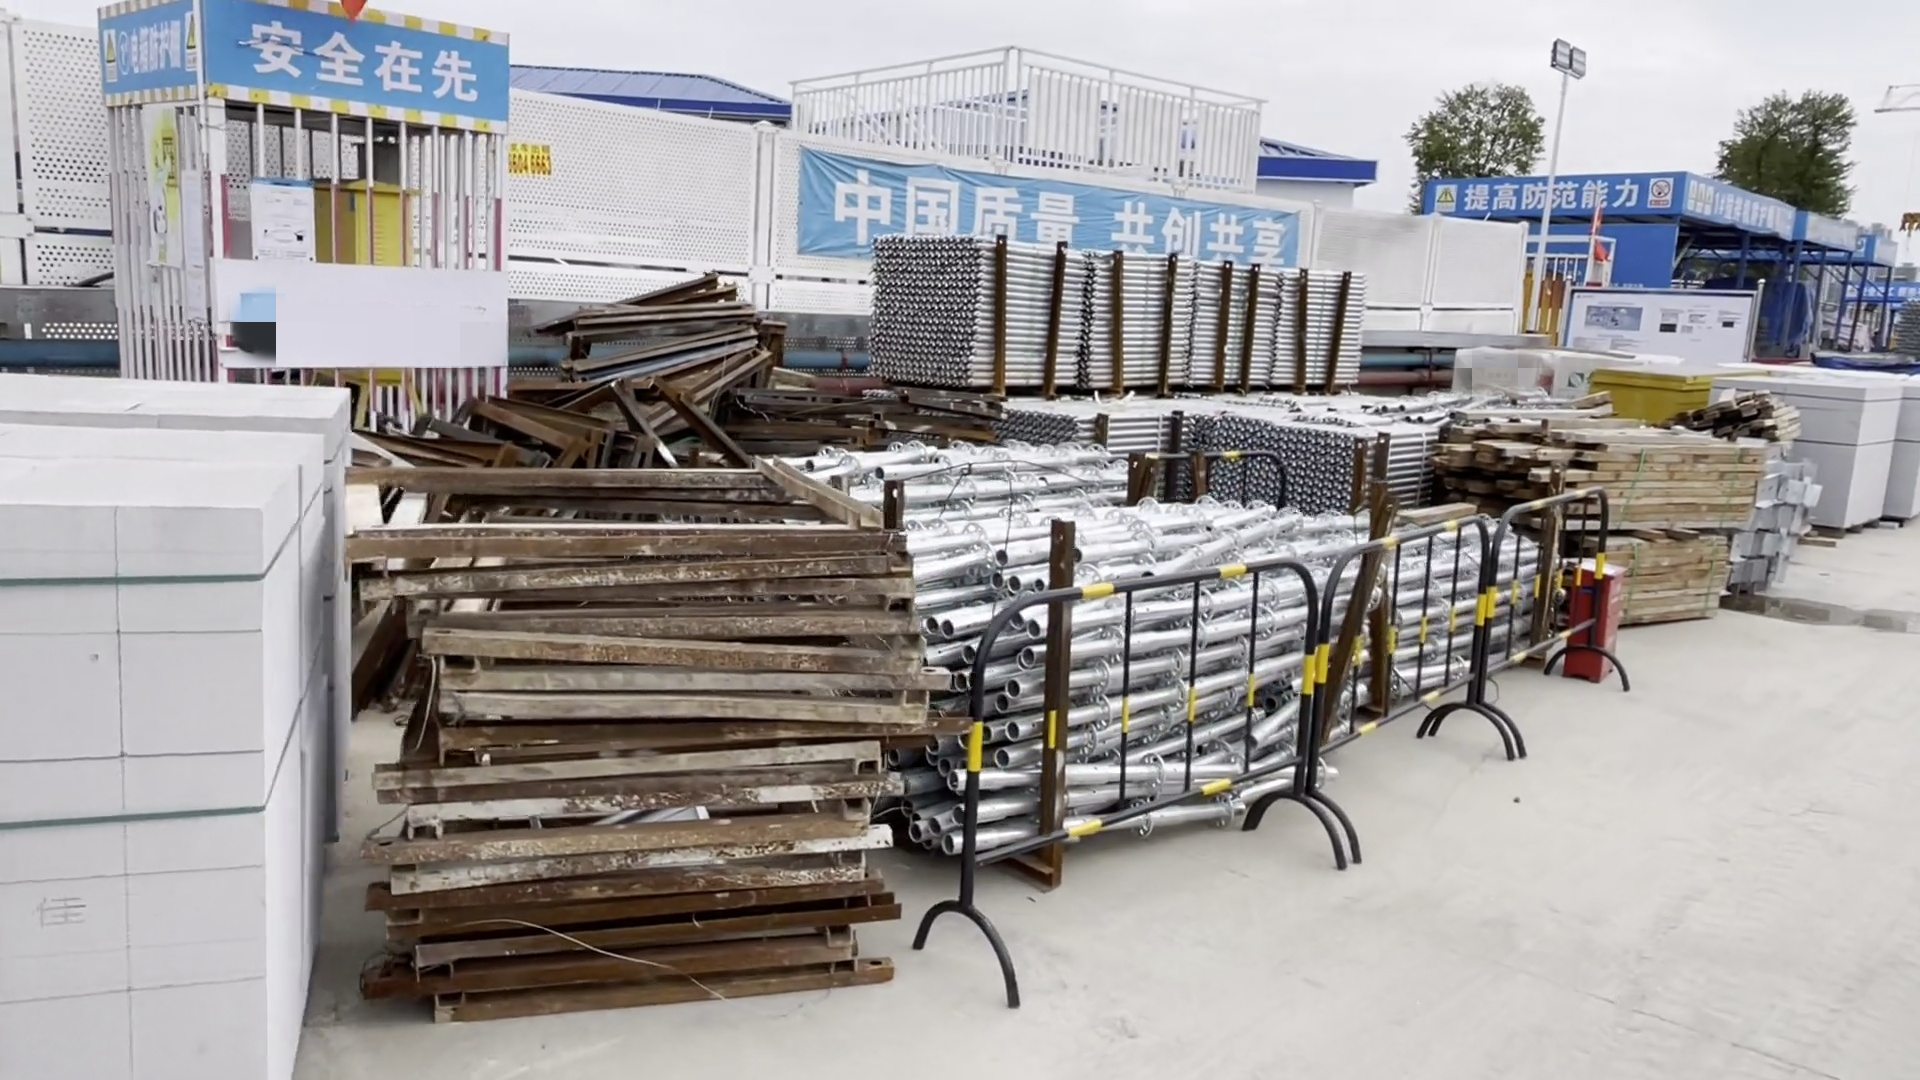scaffold: (913, 495, 1520, 825), (873, 247, 1375, 405), (1164, 407, 1418, 518)
slogan: (789, 156, 1319, 303), (86, 15, 498, 127), (1428, 181, 1669, 229), (1677, 177, 1785, 247)
wood: (1524, 418, 1764, 644)
